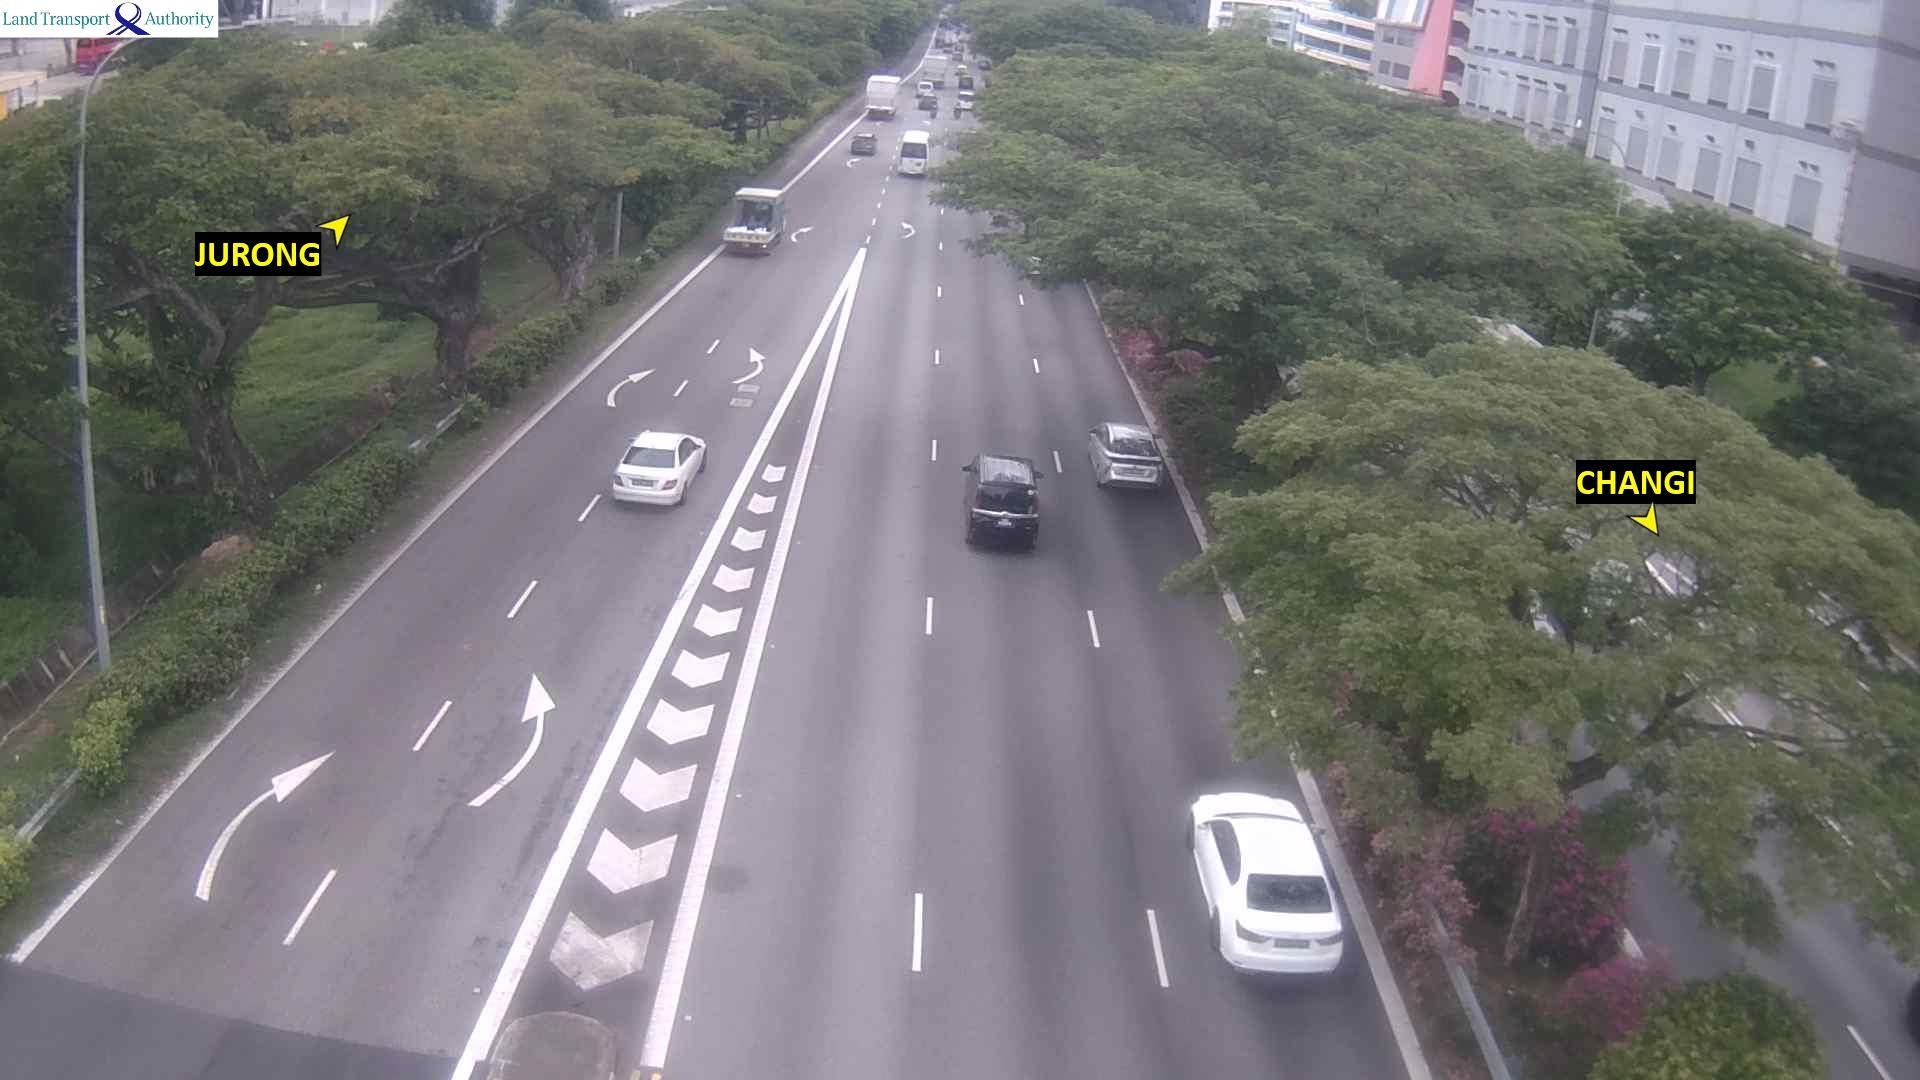cars: (1186, 789, 1344, 980), (960, 450, 1042, 548), (610, 428, 707, 507), (1086, 420, 1165, 493), (721, 186, 786, 255), (892, 129, 929, 176), (850, 130, 877, 154), (913, 79, 937, 100), (954, 91, 974, 115), (918, 92, 938, 112), (956, 72, 976, 92), (976, 55, 991, 70), (955, 64, 970, 76), (951, 50, 964, 63), (943, 42, 954, 54)
motorcycle: (951, 98, 963, 120), (928, 99, 939, 121)
trucks: (863, 74, 900, 118), (920, 53, 948, 91)
